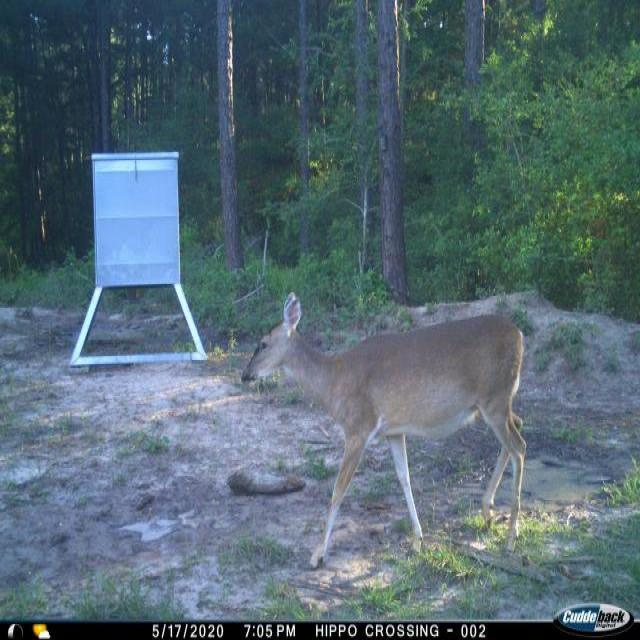deer: (238, 289, 536, 575)
